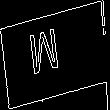M_S: (38, 26, 72, 84)
